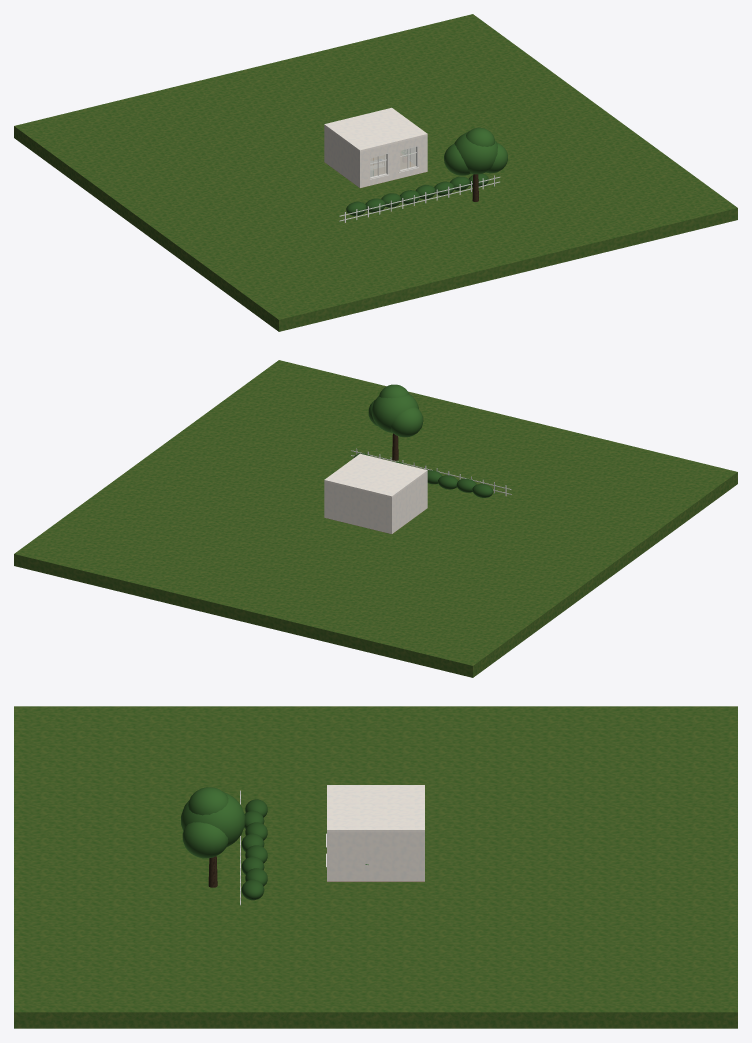
Rendered from DreamBedroom.glb.
3 renders of one model, top to bottom at view 1: azimuth 30°, elevation 25°; view 2: azimuth 150°, elevation 25°; view 3: azimuth 270°, elevation 25°, orthographic. The views are drawn at different scales.
Parts seen in each view (by area): view 1: Structure, TreeCanopy, TreeCanopy3; view 2: Structure, TreeCanopy, TreeCanopy3; view 3: Structure, TreeCanopy, TreeCanopy2, TreeCanopy4.
Boxes of the visible parts, x1,y1,x2,y2 form: Structure: [14, 14, 737, 331]; TreeCanopy: [454, 132, 497, 174]; TreeCanopy3: [444, 144, 470, 175]; Structure: [14, 360, 737, 677]; TreeCanopy: [372, 394, 418, 432]; TreeCanopy3: [390, 407, 423, 437]; Structure: [14, 706, 737, 1028]; TreeCanopy: [181, 792, 245, 847]; TreeCanopy2: [182, 822, 228, 858]; TreeCanopy4: [188, 787, 228, 815].
Size of the model in its own units: 40 by 6.99 by 40.
Materials: 44 (19 with a texture image).
